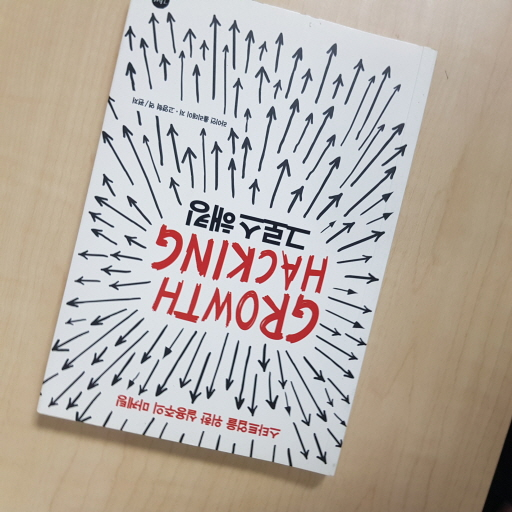Paper_0: (34, 1, 439, 485)
